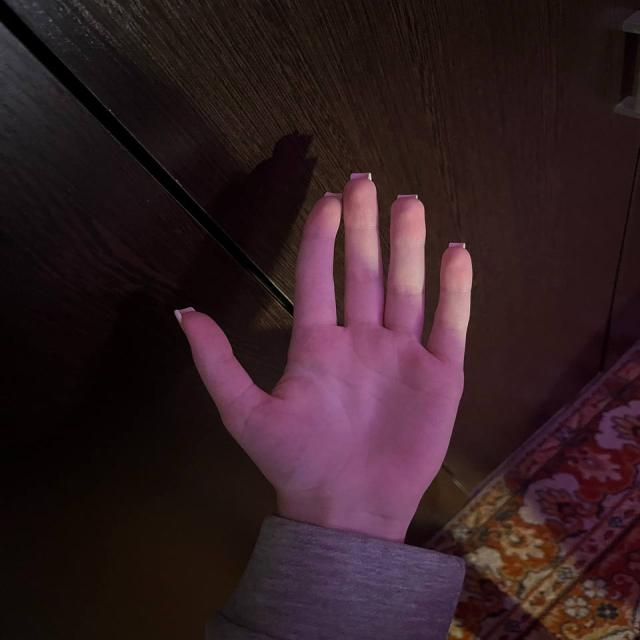v: (169, 162, 498, 498)
